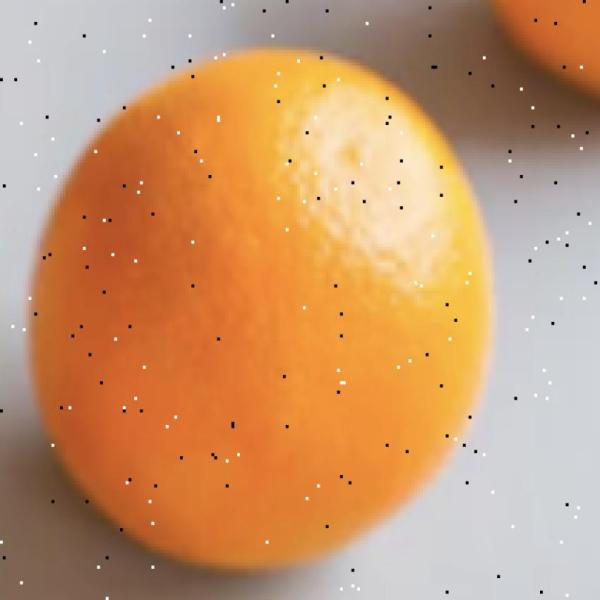Sana: (17, 42, 530, 581)
